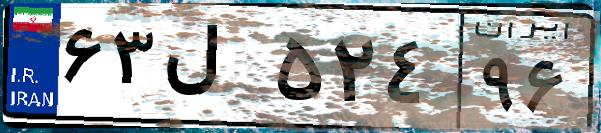2: (330, 28, 385, 110)
3: (110, 28, 158, 98)
4: (385, 28, 445, 110)
5: (270, 28, 330, 110)
6: (57, 26, 110, 100), (525, 38, 570, 115)
9: (475, 38, 525, 113)
ل: (158, 20, 270, 120)
